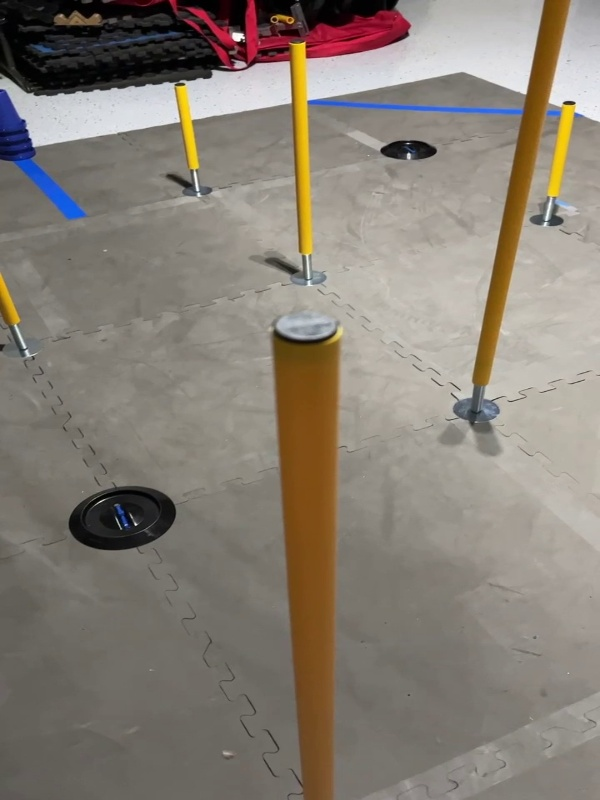top: (263, 304, 347, 348)
